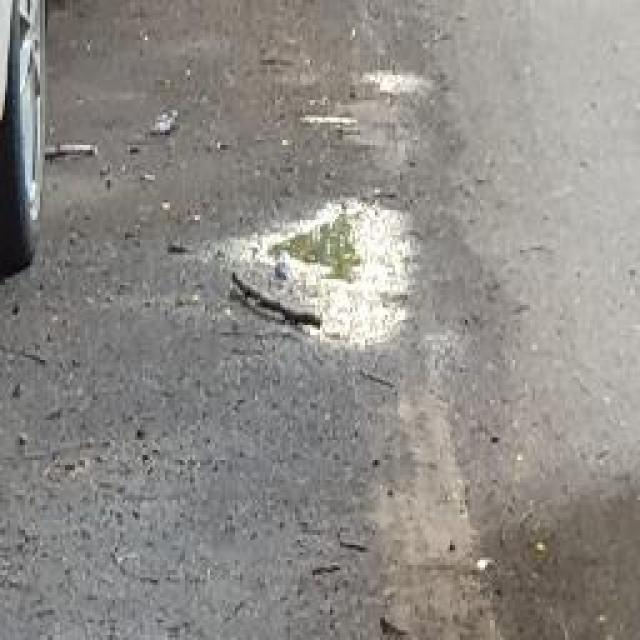puddle: (265, 206, 372, 290)
